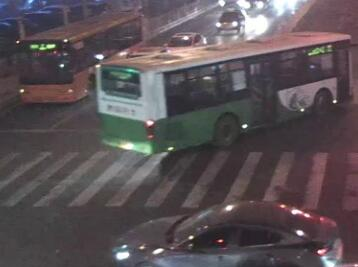bus: (9, 10, 147, 108)
car: (97, 28, 358, 156), (108, 199, 342, 264), (163, 29, 206, 55), (214, 7, 246, 33), (243, 0, 271, 15)
